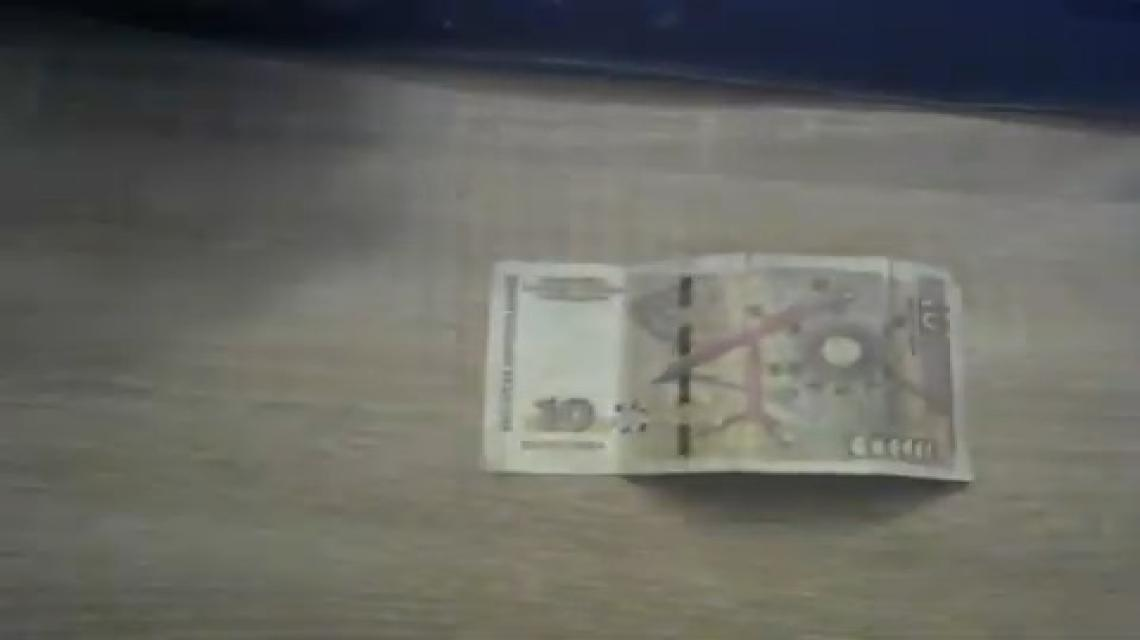10leva: (477, 254, 971, 484)
